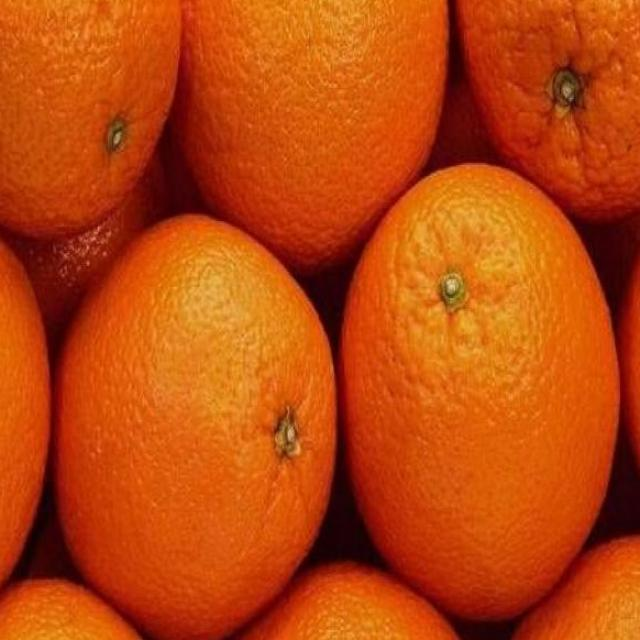orange: (331, 156, 620, 628), (46, 226, 340, 640), (156, 0, 465, 290)
